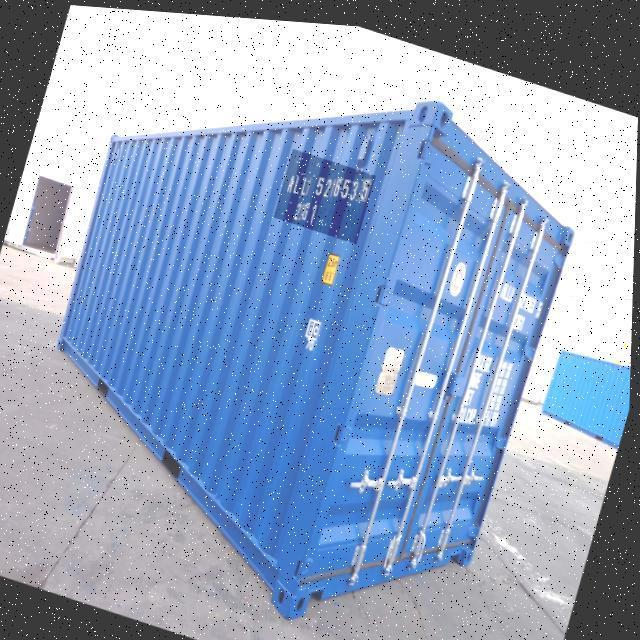container_number_h: (274, 143, 377, 240)
